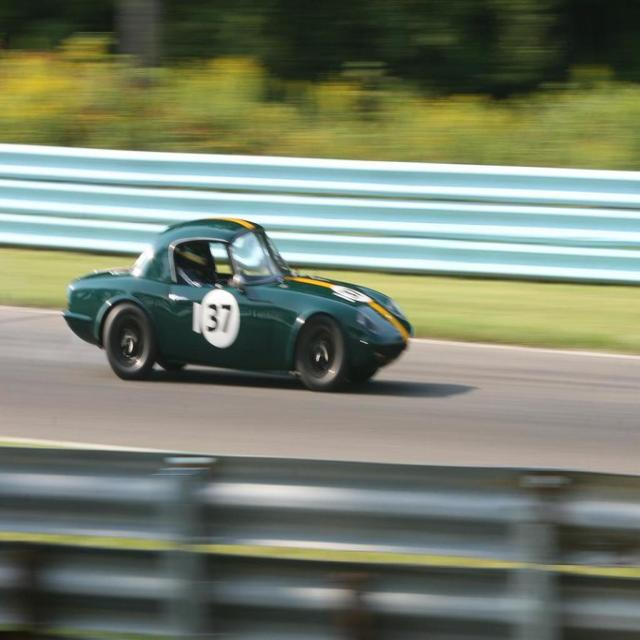car: (61, 214, 416, 392)
